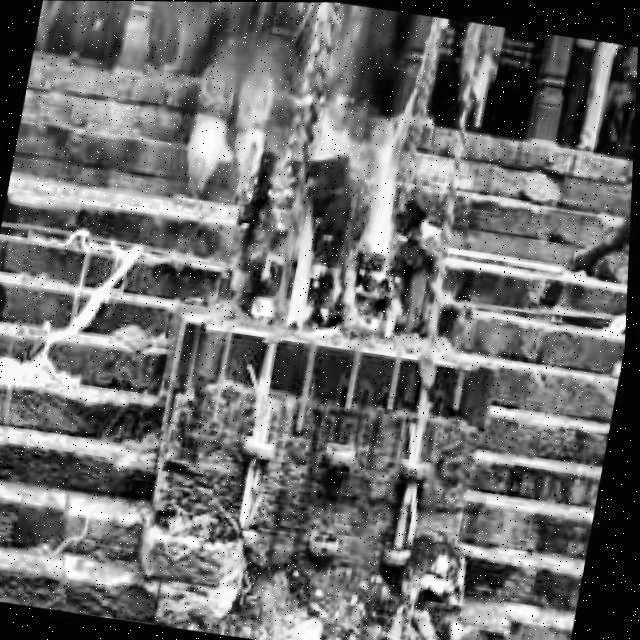Fire: (249, 82, 431, 349)
